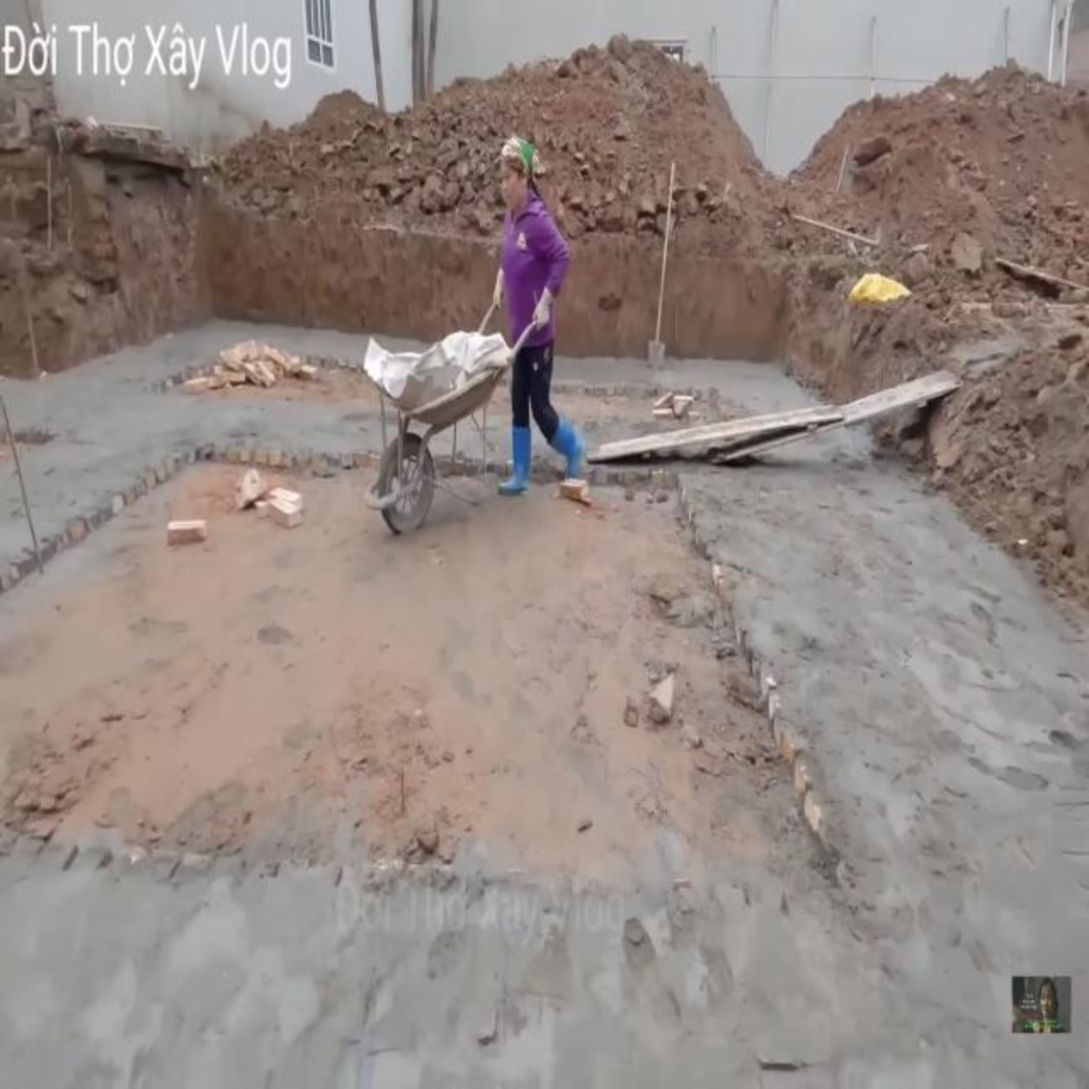no_helmet: (498, 135, 537, 212)
no_vest: (503, 206, 556, 352)
person: (488, 135, 587, 498)
